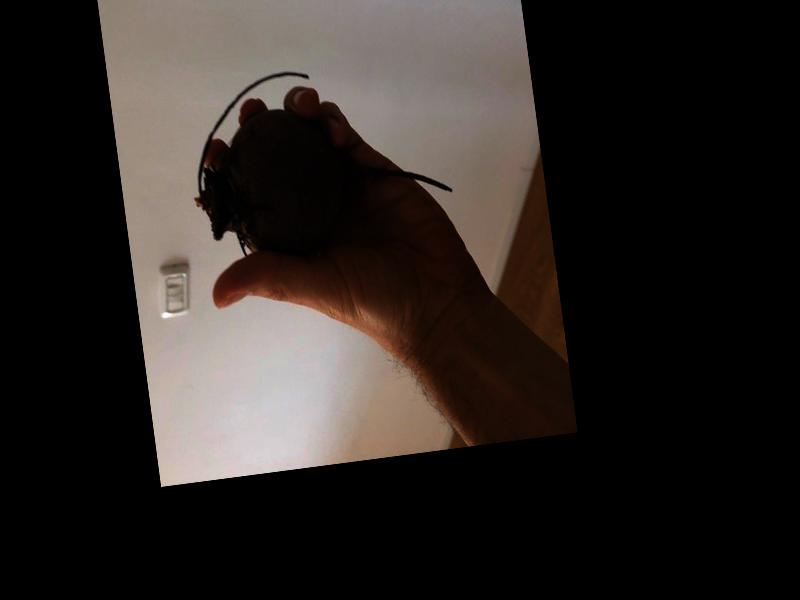Beet: (180, 51, 456, 263)
